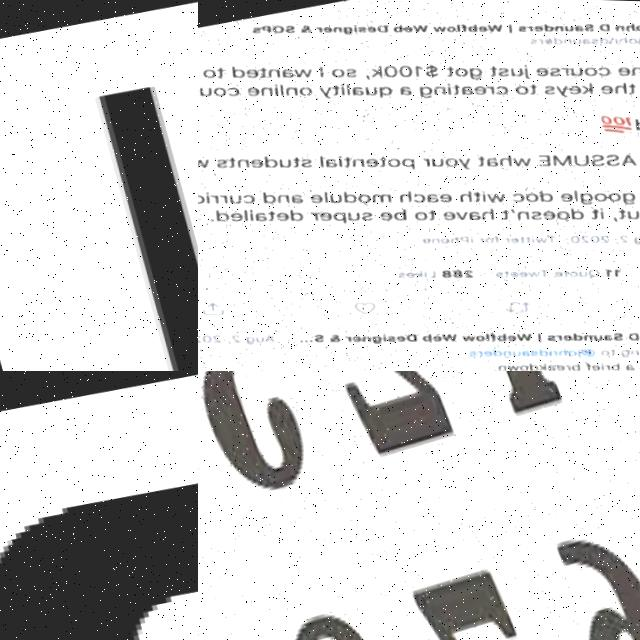0: (394, 59, 413, 76), (380, 59, 397, 76), (564, 228, 577, 241), (584, 229, 596, 241), (198, 329, 208, 341)
1: (416, 371, 574, 423), (410, 59, 425, 76), (608, 262, 619, 273), (599, 263, 610, 274)
2: (273, 371, 456, 465), (458, 263, 471, 276), (205, 329, 217, 342), (224, 330, 236, 342), (613, 229, 625, 239), (574, 230, 586, 240), (596, 230, 606, 239)
3: (198, 371, 317, 505)
6: (529, 502, 640, 640)
7: (394, 537, 579, 640)
8: (261, 590, 439, 640), (435, 263, 449, 276), (446, 264, 460, 276)
D: (0, 407, 198, 640)
N: (79, 11, 198, 371)
